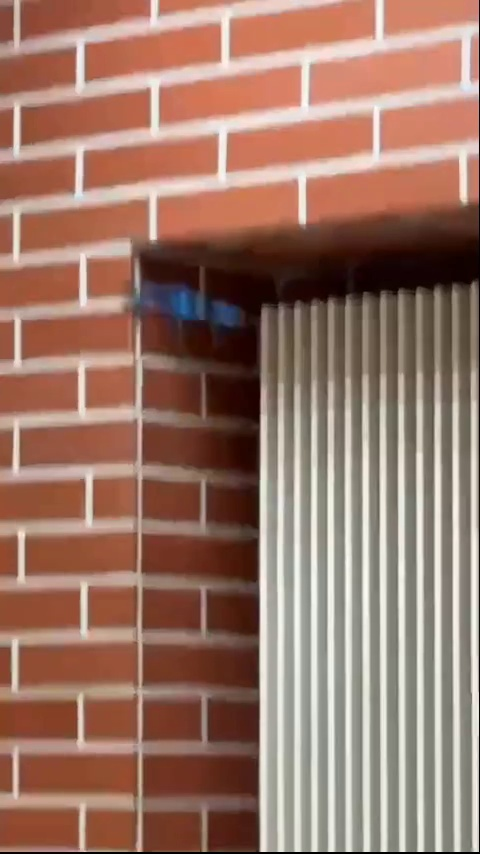drone: (127, 270, 254, 345)
